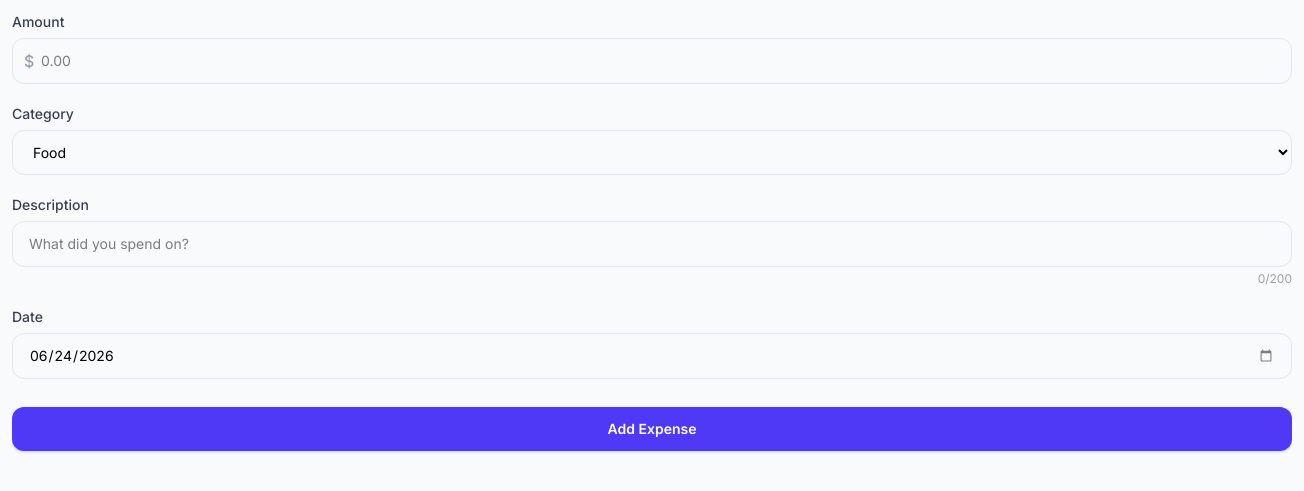
Test: ExpenseForm — validation › shows an error when date is cleared
The width and height of the screenshot is (1304, 491).
Type "10" into the number field with placeholder "0.00" at (652, 61), box [12, 38, 1292, 84]
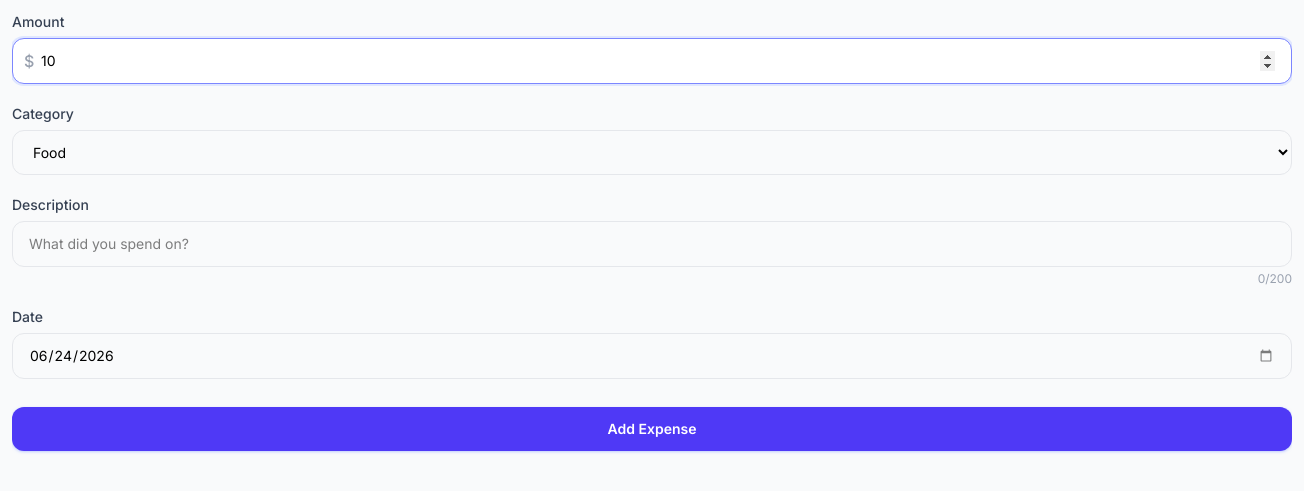
Type "Test" into the field with placeholder "What did you spend on?" at (652, 244), box [12, 221, 1292, 267]
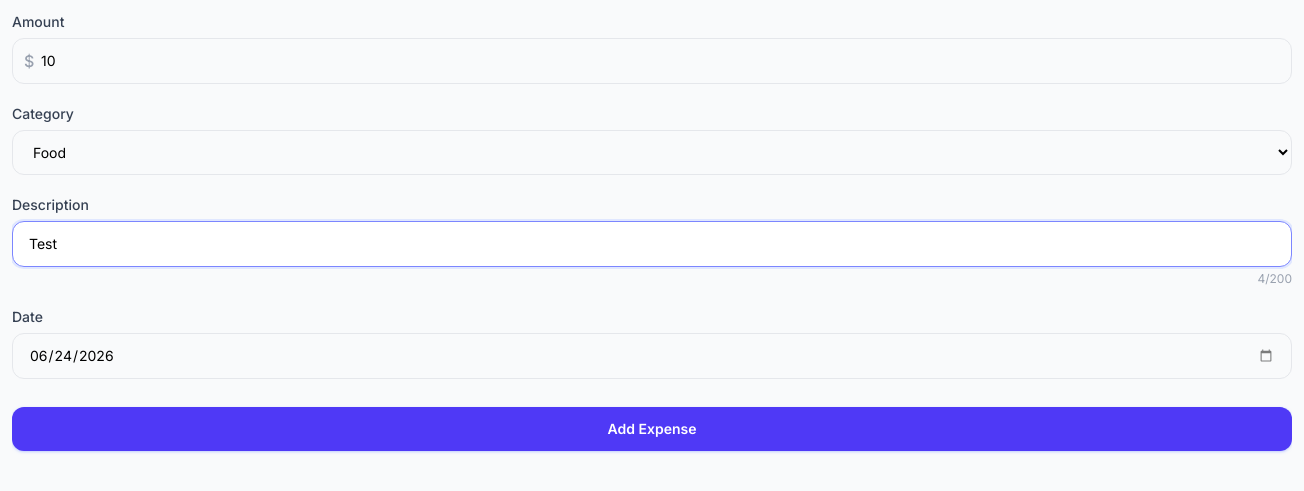
Clear the date field showing "2026-06-24" at (652, 356), box [12, 333, 1292, 379]
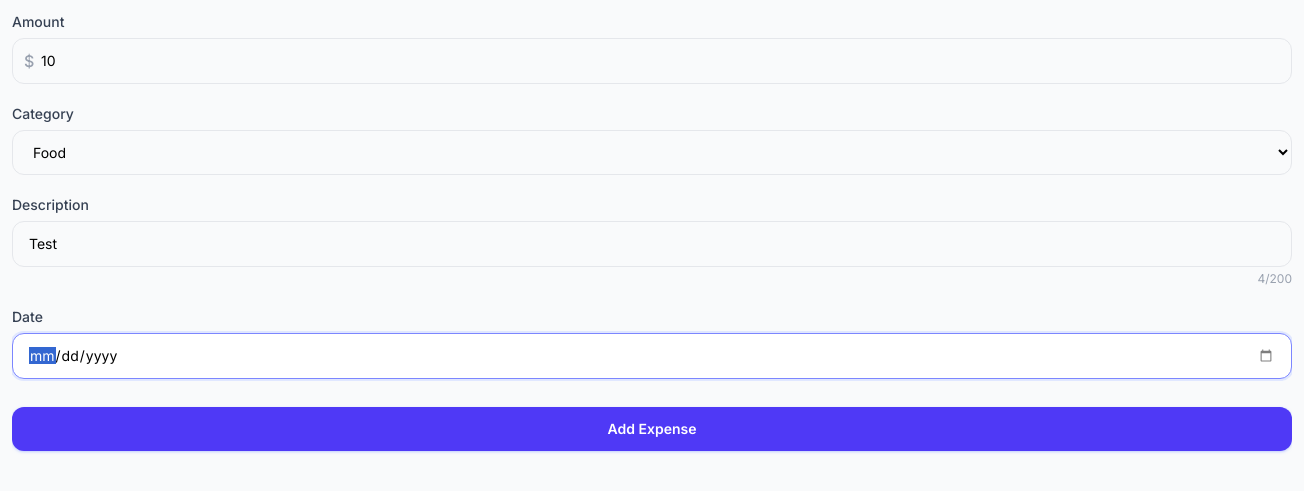
Click the button "Add Expense" at (652, 429), box [12, 407, 1292, 451]
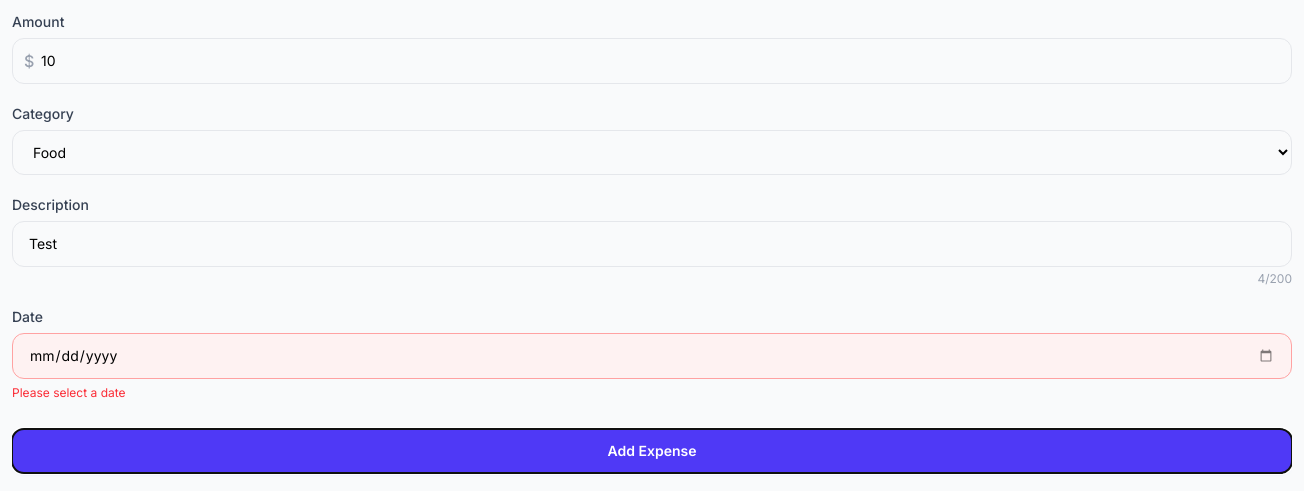
Result: the text "Please select a date" is shown at [12, 385, 126, 400]
